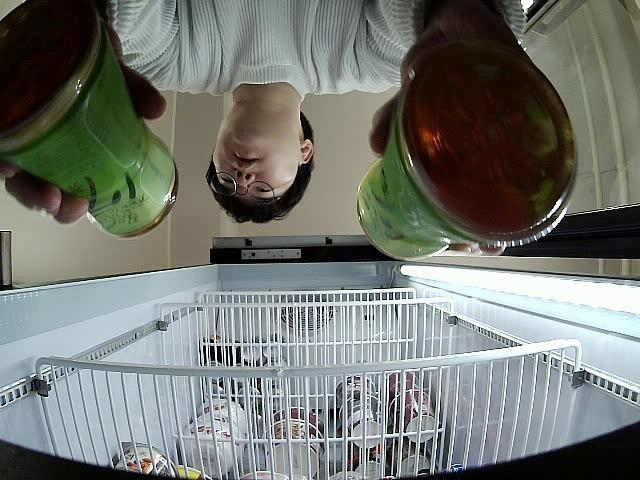19_17cha: (358, 47, 576, 260), (0, 0, 178, 236)
